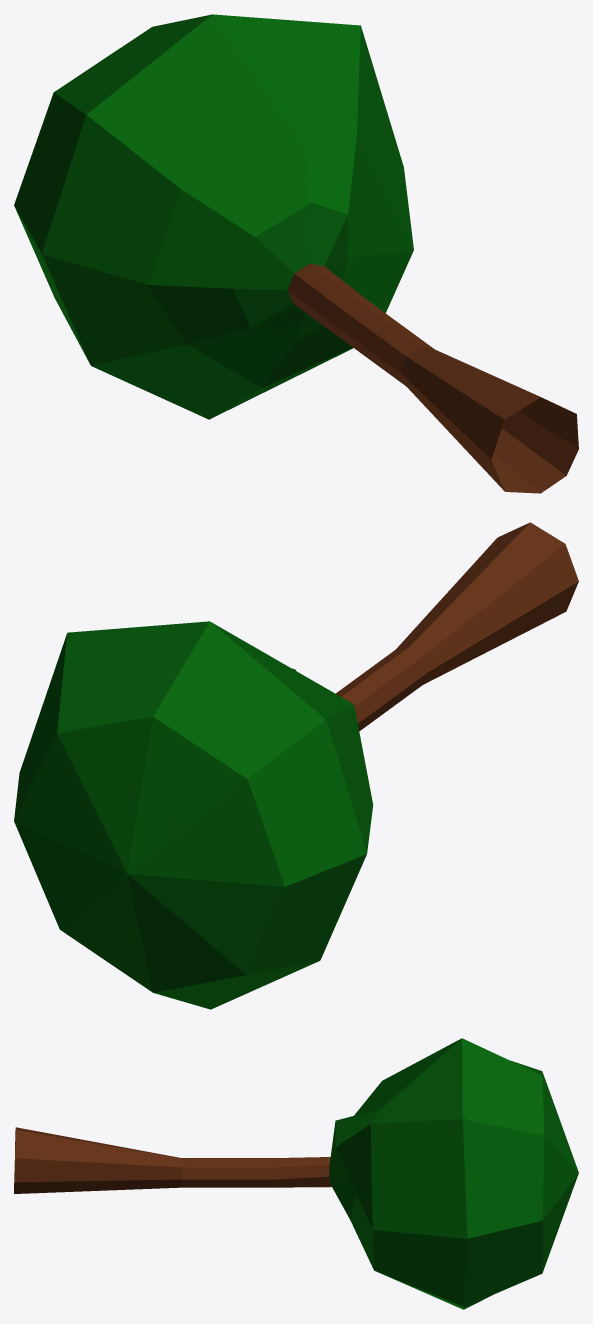
Rendered from Tree2.fbx.
3 views of the same model, one above another, from view 1: azimuth 30°, elevation 25°; view 2: azimuth 150°, elevation 25°; view 3: azimuth 270°, elevation 25° (orthographic). The views are drawn at different scales.
Visible parts, largest first — view 1: Circle; view 2: Circle; view 3: Circle.
Boxes of the visible parts, x1,y1,x2,y2 form: Circle: [14, 14, 578, 493]; Circle: [14, 522, 578, 1009]; Circle: [14, 1038, 578, 1309].
Size of the model in its own units: 2506 by 1333 by 1249.
Materials: 1 (1 with a texture image).
